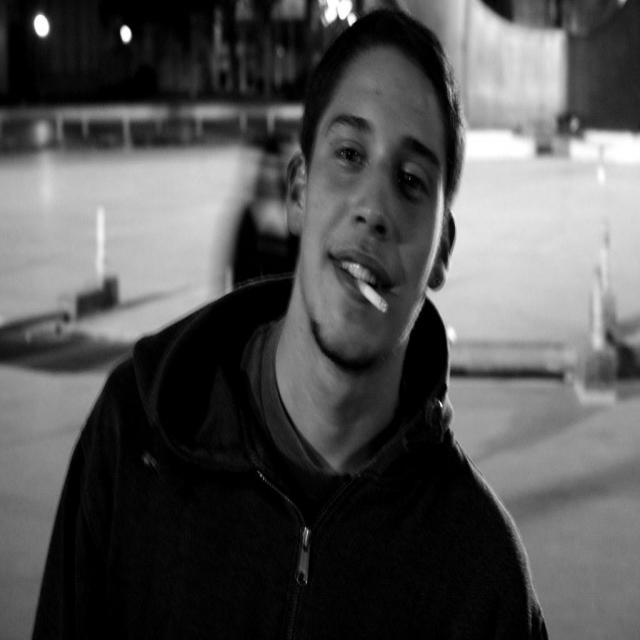Сигарета: (357, 275, 387, 314)
Тело: (50, 12, 548, 640)
